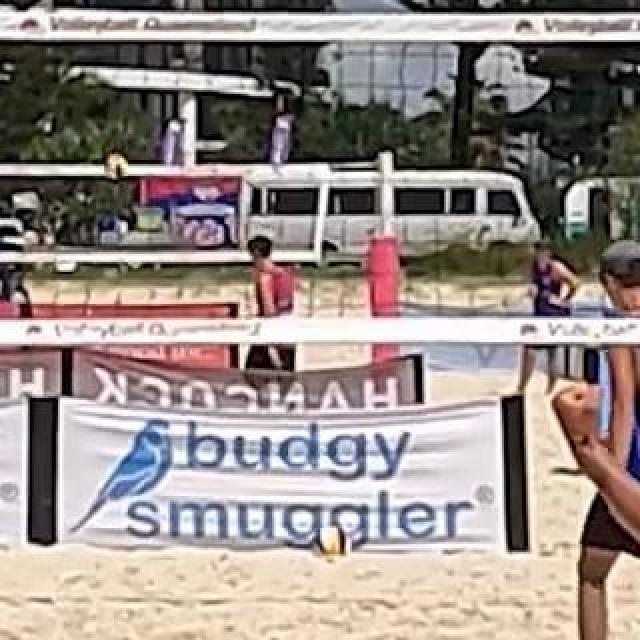volleyball: (314, 525, 350, 557), (104, 153, 128, 181)
